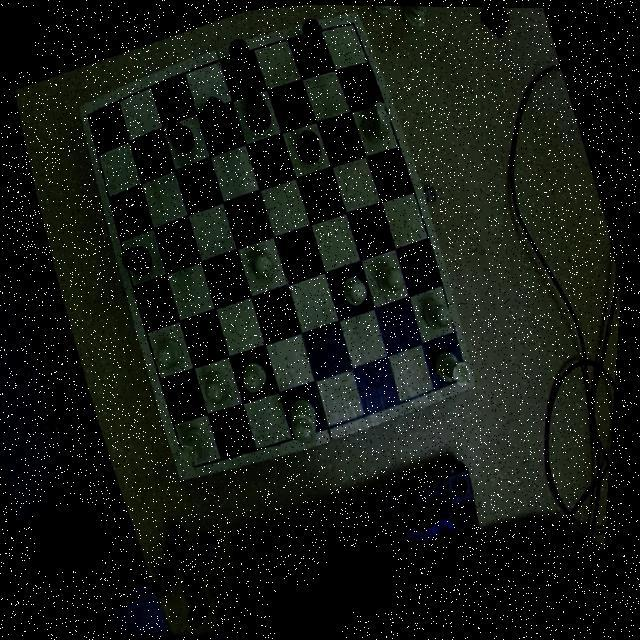chess-table-corners: (451, 358, 482, 390), (182, 452, 212, 481), (78, 100, 104, 132), (337, 8, 362, 36)
